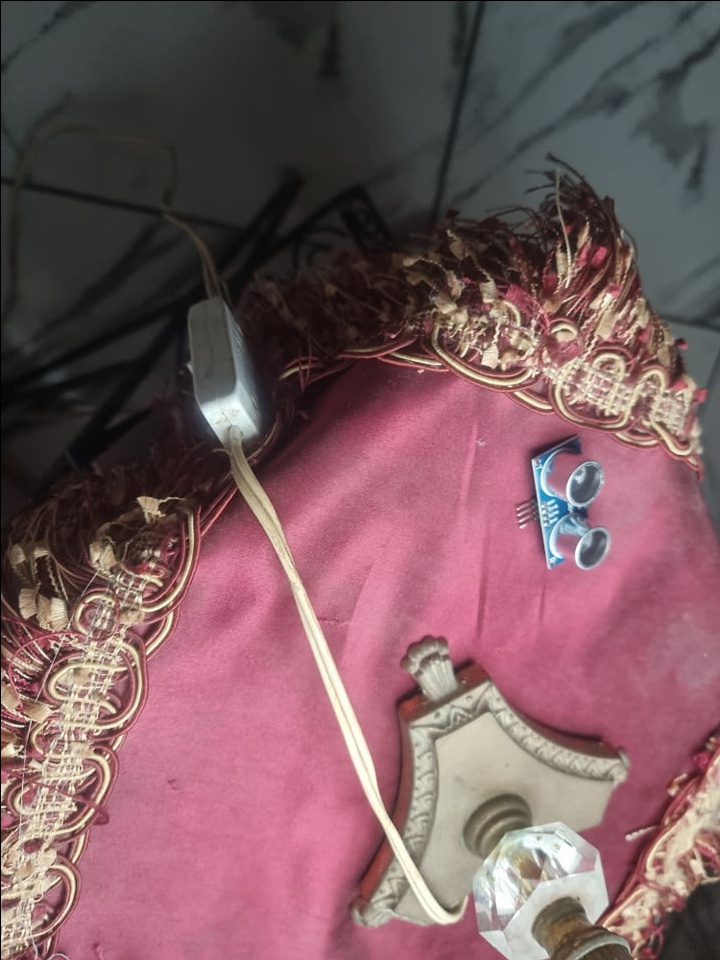SENSOR: (531, 428, 608, 572)
